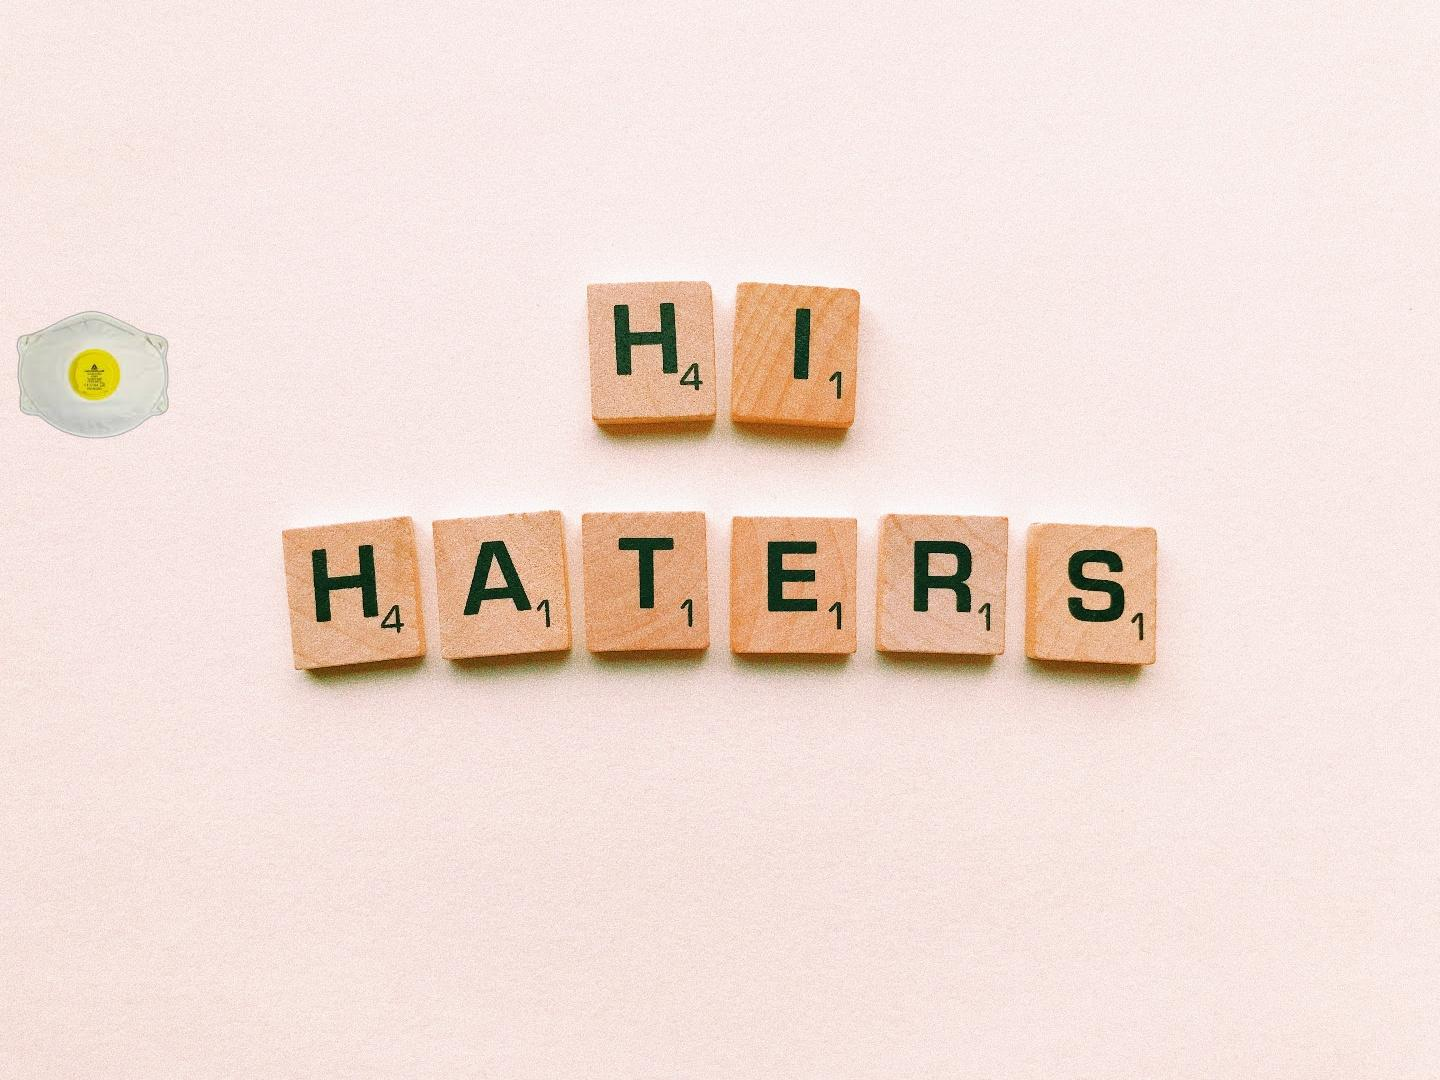trash: (14, 307, 171, 441)
